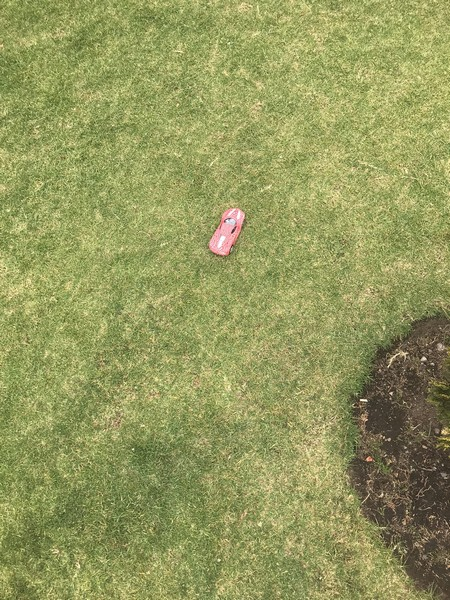RC: (207, 206, 246, 258)
